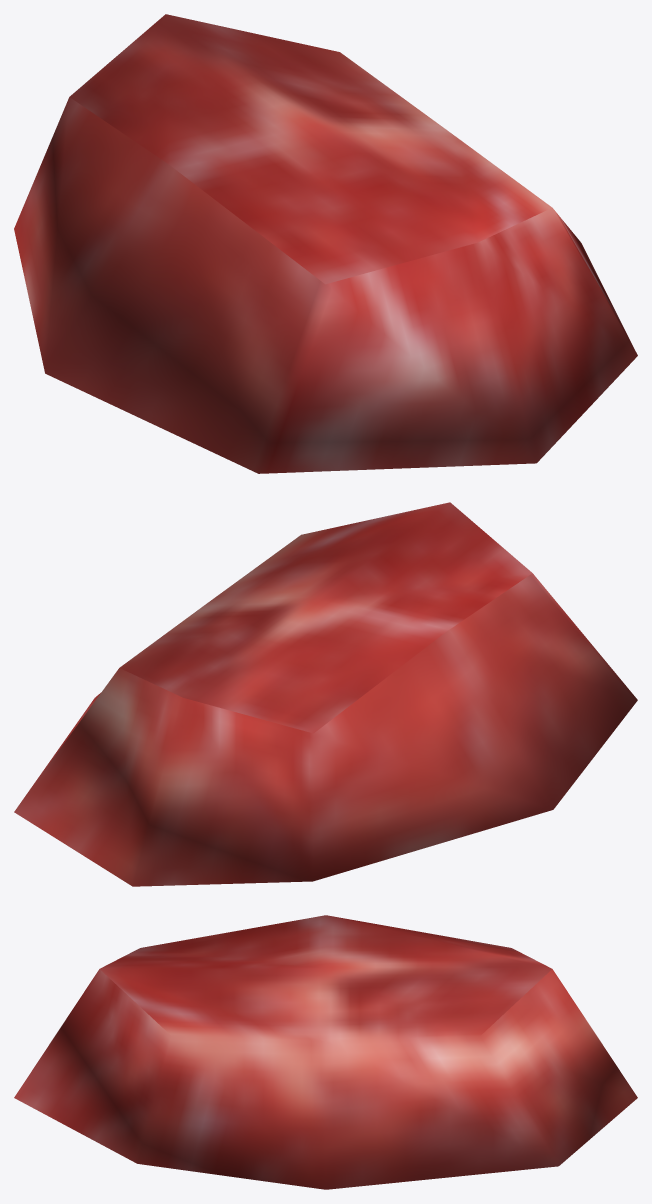
The model's file is meatlump2.glb.
3 views of the same model, one above another, from view 1: azimuth 30°, elevation 25°; view 2: azimuth 150°, elevation 25°; view 3: azimuth 270°, elevation 25° (orthographic). The views are drawn at different scales.
Visible parts, largest first — view 1: Cube.001; view 2: Cube.001; view 3: Cube.001.
Part boxes in pixels (left/top/right/bottom): Cube.001: left=14, top=14, right=637, bottom=473; Cube.001: left=14, top=502, right=637, bottom=886; Cube.001: left=14, top=915, right=637, bottom=1189.
Bounding box in the file's own units: 14.64 × 4.64 × 20.33.
Materials: 1 (1 with a texture image).
